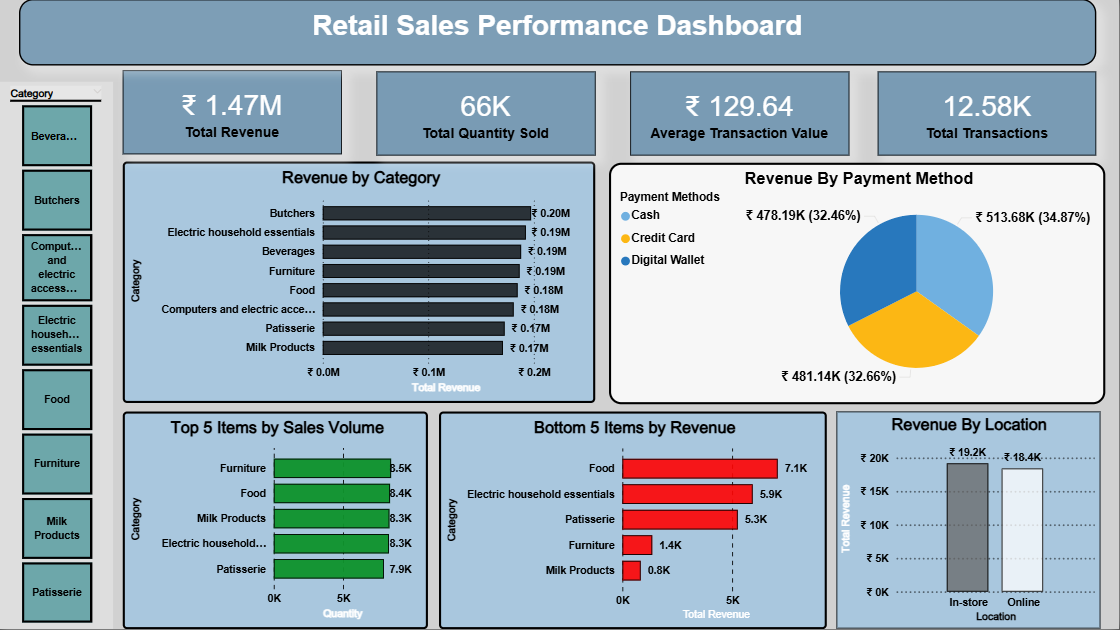

What the dashboard file says about the page in this screenshot:
{"tool":"powerbi","page":{"name":"Page 2","canvas":[1280,720],"ordinal":0},"visuals":[{"type":"card","fields":{"Values":["Sum(public retail_sale.new_total)"]},"box":[141.4,81.4,250,95.7],"z":0},{"type":"clusteredBarChart","title":"Revenue by Category","fields":{"Category":["public retail_sale.category"],"Y":["Sum(public retail_sale.new_total)"]},"box":[141.4,185.7,540,275.7],"z":0},{"type":"textbox","box":[22.9,0,1231.4,75.7],"z":1},{"type":"clusteredBarChart","title":"Top 5 Items by Sales Volume","fields":{"Category":["public retail_sale.category"],"Y":["Sum(public retail_sale.quantity)"]},"box":[141.4,471.4,348.6,248.6],"z":3},{"type":"clusteredBarChart","title":"Bottom 5 Items by Revenue","fields":{"Category":["public retail_sale.category"],"Y":["Sum(public retail_sale.new_total)"]},"box":[502.9,471.4,442.9,248.6],"z":4},{"type":"clusteredColumnChart","title":"Revenue By Location","fields":{"Category":["public retail_sale.location"],"Y":["Sum(public retail_sale.new_total)"]},"box":[956.7,471.7,301.7,248.3],"z":5},{"type":"slicer","fields":{"Values":["public retail_sale.category"]},"box":[0,94.3,130,625.7],"z":6},{"type":"card","fields":{"Values":["Count(public retail_sale.transaction_id)"]},"box":[1004.4,82.9,249.9,95.7],"z":1000},{"type":"card","fields":{"Values":["Avg(public retail_sale.new_total)"]},"box":[721.4,82.9,250,95.7],"z":2000},{"type":"card","fields":{"Values":["Sum(public retail_sale.quantity)"]},"box":[431.4,82.9,250,95.7],"z":3000},{"type":"pieChart","title":"Revenue By Payment Method","fields":{"Category":["public retail_sale.payment_method"],"Y":["Sum(public retail_sale.new_total)"]},"box":[697.4,187.1,566.9,275.7],"z":7000}]}

Visuals, with their boxes in screenshot pixels (x1, y1, x2, y2), scaled from the page's 1280x720 canvas onto the 1120x630 screenshot:
card - Sum(public retail_sale.new_total): 124:71:342:155
"Revenue by Category" clusteredBarChart: 124:162:596:404
textbox: 20:0:1098:66
"Top 5 Items by Sales Volume" clusteredBarChart: 124:412:429:629
"Bottom 5 Items by Revenue" clusteredBarChart: 440:412:828:629
"Revenue By Location" clusteredColumnChart: 837:413:1101:629
slicer - public retail_sale.category: 0:83:114:629
card - Count(public retail_sale.transaction_id): 879:73:1098:156
card - Avg(public retail_sale.new_total): 631:73:850:156
card - Sum(public retail_sale.quantity): 377:73:596:156
"Revenue By Payment Method" pieChart: 610:164:1106:405
